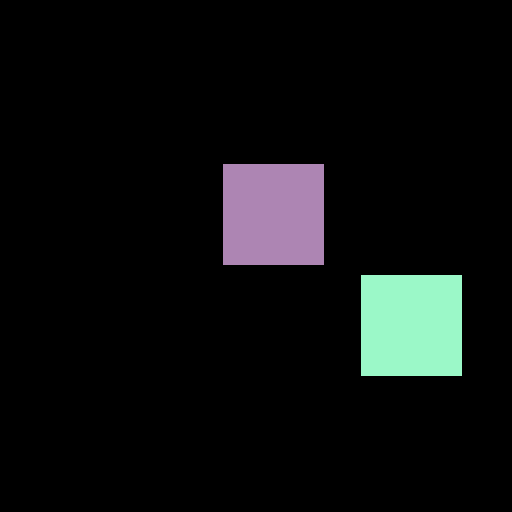square: (361, 275, 461, 375), (223, 164, 323, 264)
